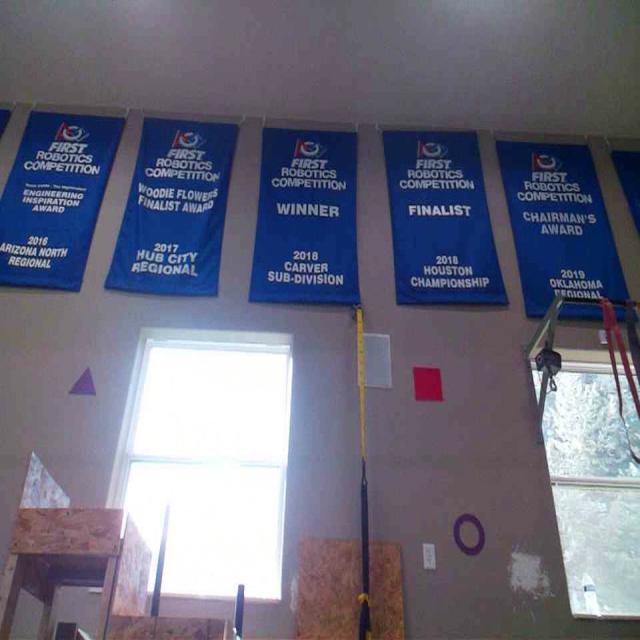ring_purple: (452, 511, 486, 554)
square_red: (412, 364, 443, 401)
triangle_purple: (66, 365, 97, 394)
